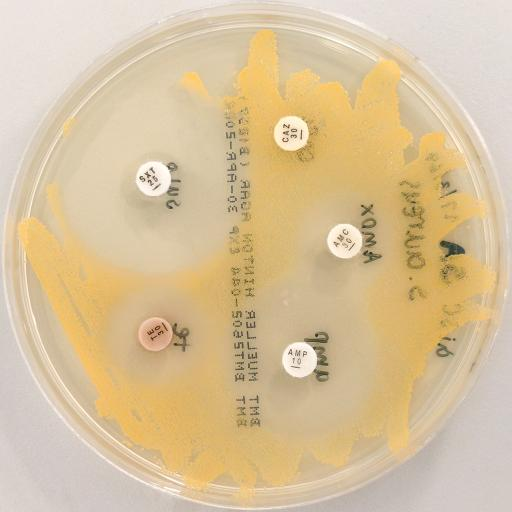disc: (281, 341, 317, 378), (134, 160, 170, 196), (326, 223, 362, 259), (137, 316, 173, 351), (274, 114, 308, 150)
